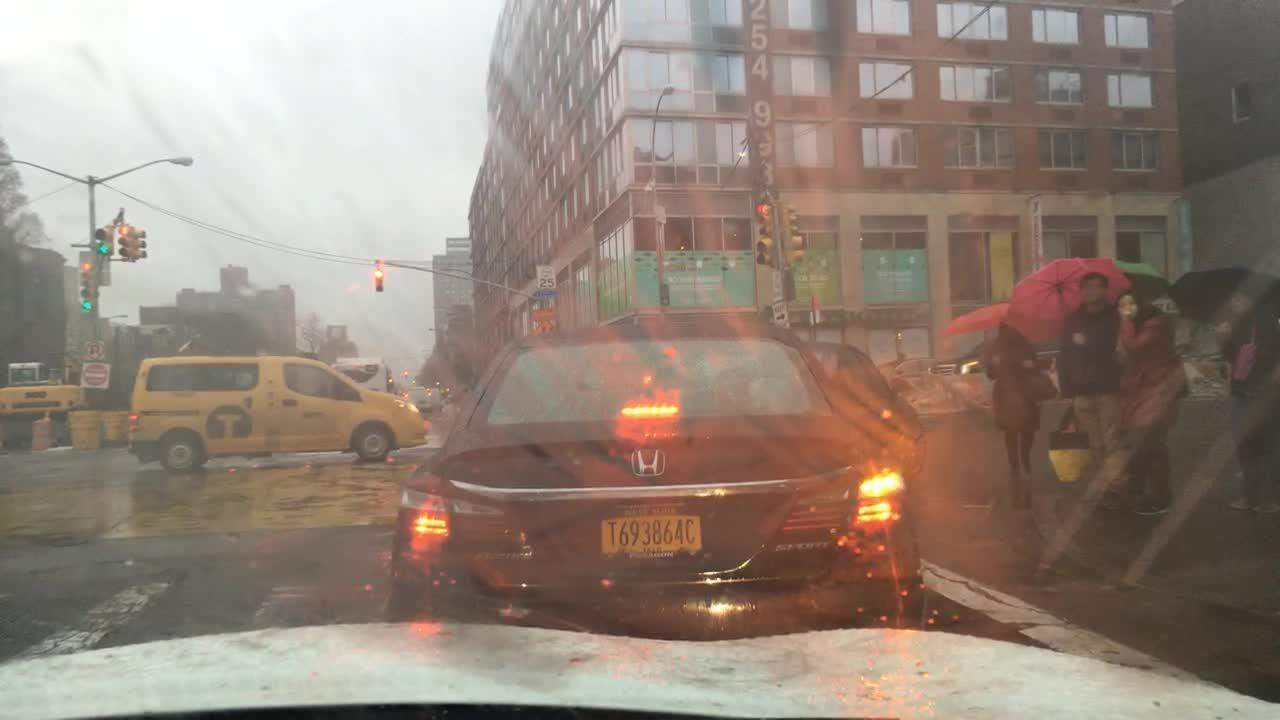Honda: (628, 444, 670, 481)
